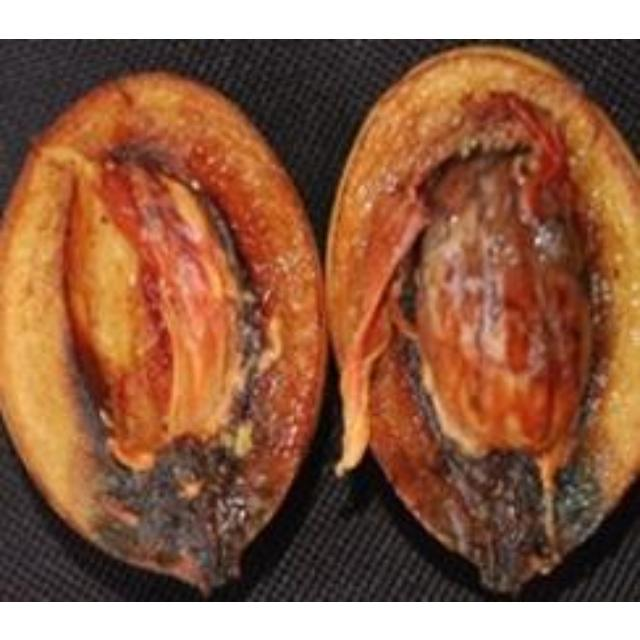damaged: (0, 69, 336, 599), (323, 46, 637, 599)
